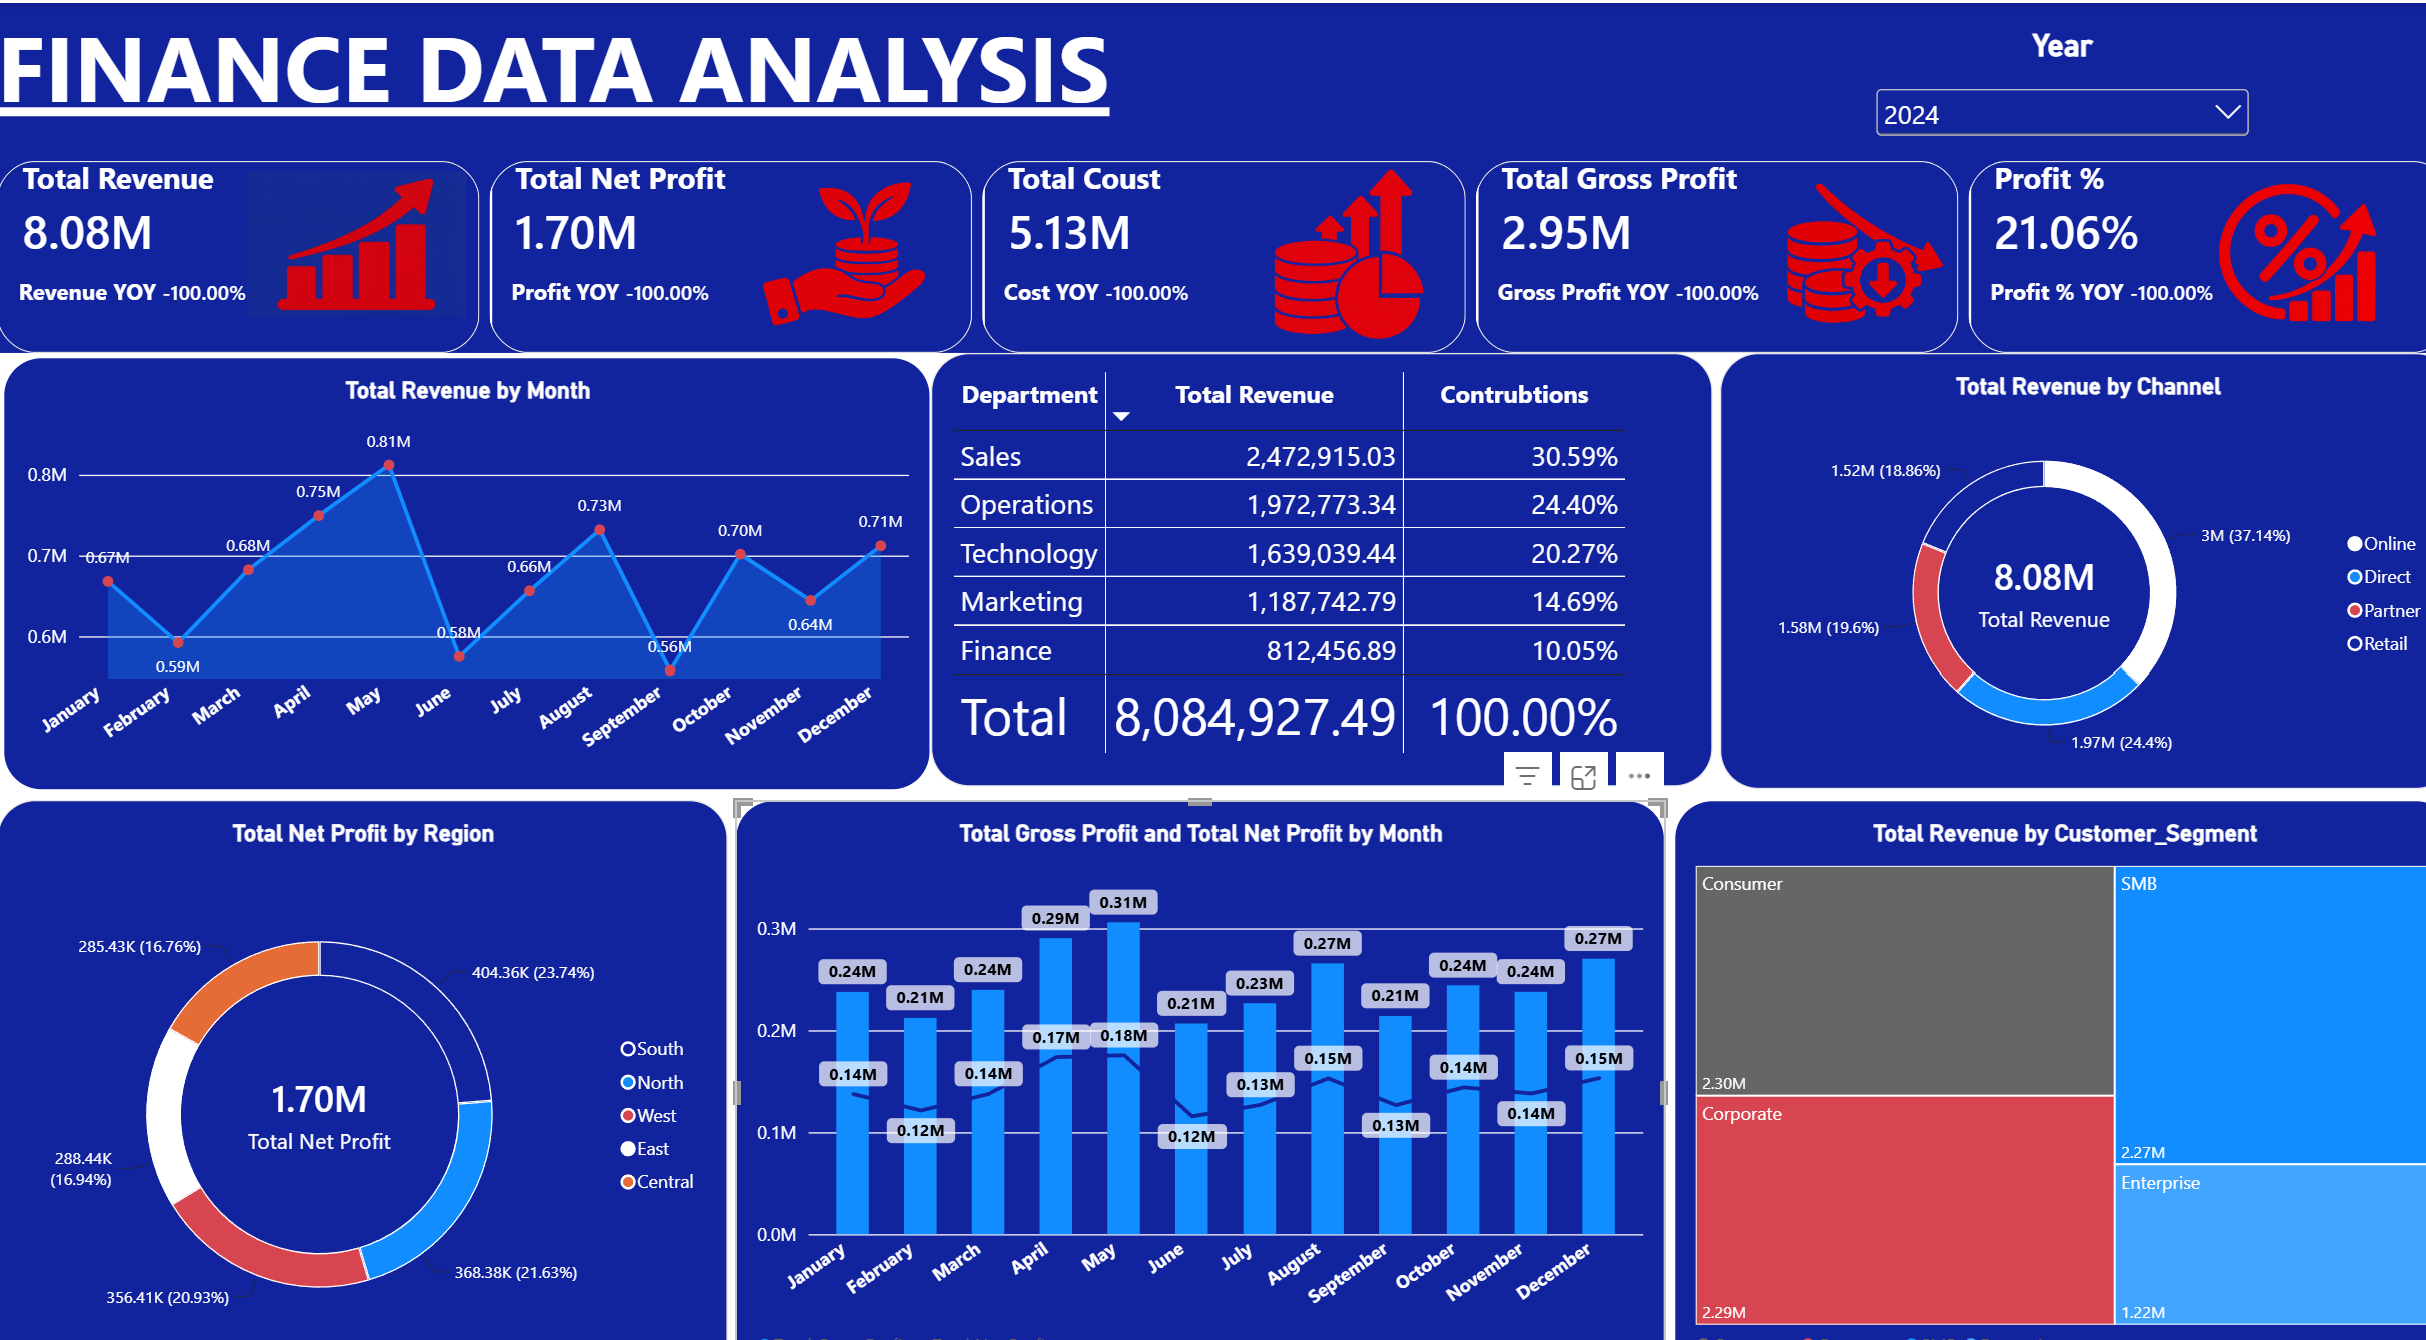

Layout of this report page (visuals, bound fields, positions):
{"tool":"powerbi","page":{"name":"Dashboard","canvas":[1920,1080],"ordinal":0},"visuals":[{"type":"textbox","box":[0,0,1920,123.6],"z":0},{"type":"cardVisual","fields":{"Data":["Finance Data Analysis.Total Revenue","Finance Data Analysis.Total Net Profit","Finance Data Analysis.Total Coust","Finance Data Analysis.Total Gross Profit","Finance Data Analysis.Profit %"]},"box":[0,123.6,1920,150],"z":1},{"type":"areaChart","fields":{"Category":["Finance Data Analysis.Transaction_Date.Variation.Date Hierarchy.Month"],"Y":["Finance Data Analysis.Total Revenue"]},"box":[4.1,276.1,725,337.9],"z":2},{"type":"tableEx","fields":{"Values":["Finance Data Analysis.Department","Finance Data Analysis.Total Revenue","Finance Data Analysis.Contrubtions"]},"box":[729.3,274,610,337.9],"z":3},{"type":"donutChart","fields":{"Category":["Finance Data Analysis.Channel"],"Y":["Finance Data Analysis.Total Revenue"]},"box":[1345.2,274,574,340],"z":4},{"type":"lineClusteredColumnComboChart","fields":{"Category":["Finance Data Analysis.Transaction_Date.Variation.Date Hierarchy.Month"],"Y":["Finance Data Analysis.Total Gross Profit"],"Y2":["Finance Data Analysis.Total Net Profit"]},"box":[576.8,622.1,726,457.3],"z":5},{"type":"treemap","fields":{"Group":["Finance Data Analysis.Customer_Segment"],"Values":["Finance Data Analysis.Total Revenue"]},"box":[1310.2,622.1,610,457],"z":6},{"type":"donutChart","fields":{"Category":["Finance Data Analysis.Region"],"Y":["Finance Data Analysis.Total Net Profit"]},"box":[0,622.1,571,457],"z":7},{"type":"slicer","title":"Year","fields":{"Values":["Finance Data Analysis.Transaction_Date.Variation.Date Hierarchy.Year"]},"box":[1462.7,18.5,300.8,88.6],"z":8},{"type":"image","box":[510.9,131.8,298.7,129.8],"z":10},{"type":"image","box":[902.3,123.6,300.8,148.3],"z":11},{"type":"image","box":[1302,131.8,298.7,129.8],"z":12},{"type":"image","box":[1666.6,131.8,255.5,129.8],"z":13},{"type":"image","box":[195.7,131.8,171,115.4],"z":14}]}

Visuals, with their boxes in screenshot pixels (x1, y1, x2, y2), scaled from the page's 1920x1080 canvas onto the 2426x1340 screenshot:
textbox: region(0, 0, 2425, 153)
cardVisual - Finance Data Analysis.Total Revenue x Finance Data Analysis.Total Net Profit: region(0, 153, 2425, 339)
areaChart - Finance Data Analysis.Transaction_Date.Variation.Date Hierarchy.Month x Finance Data Analysis.Total Revenue: region(5, 343, 921, 762)
tableEx - Finance Data Analysis.Department x Finance Data Analysis.Total Revenue: region(922, 340, 1692, 759)
donutChart - Finance Data Analysis.Channel x Finance Data Analysis.Total Revenue: region(1700, 340, 2425, 762)
lineClusteredColumnComboChart - Finance Data Analysis.Transaction_Date.Variation.Date Hierarchy.Month x Finance Data Analysis.Total Gross Profit: region(729, 772, 1646, 1339)
treemap - Finance Data Analysis.Customer_Segment x Finance Data Analysis.Total Revenue: region(1655, 772, 2425, 1339)
donutChart - Finance Data Analysis.Region x Finance Data Analysis.Total Net Profit: region(0, 772, 721, 1339)
"Year" slicer: region(1848, 23, 2228, 133)
image: region(646, 164, 1023, 325)
image: region(1140, 153, 1520, 337)
image: region(1645, 164, 2023, 325)
image: region(2106, 164, 2425, 325)
image: region(247, 164, 463, 307)
